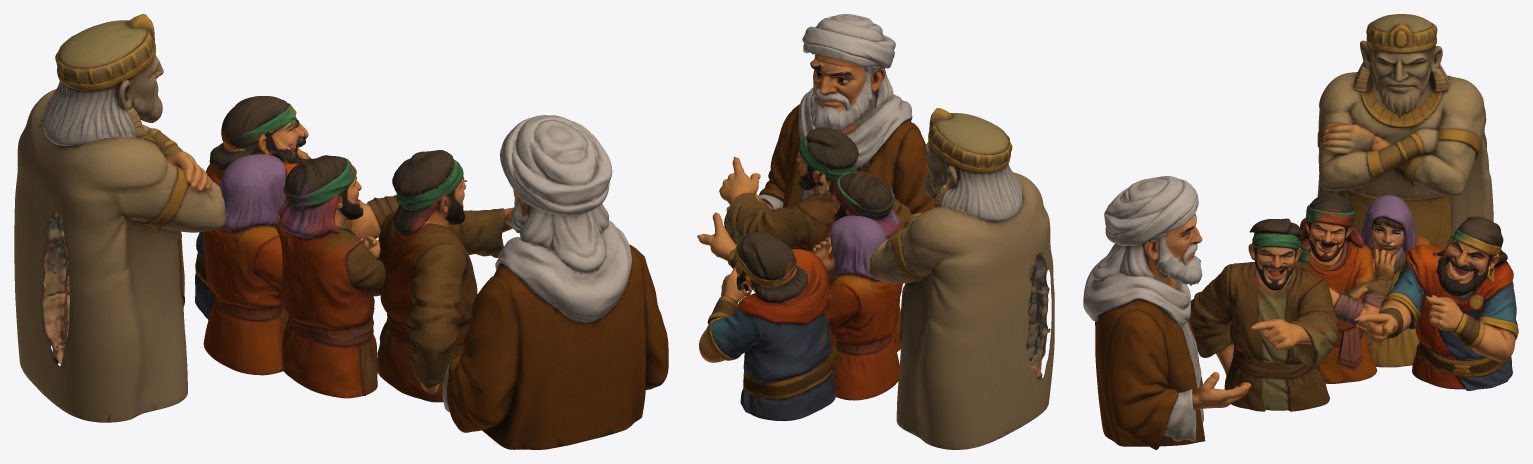
File: page-03.glb
3 renders of one model, left to right at view 1: azimuth 30°, elevation 25°; view 2: azimuth 150°, elevation 25°; view 3: azimuth 270°, elevation 25°, orthographic. The views are drawn at different scales.
Visible parts, largest first — view 1: tripo_node_a2b49d6f-3113-48df-b1f9-ea9b36f827a1; view 2: tripo_node_a2b49d6f-3113-48df-b1f9-ea9b36f827a1; view 3: tripo_node_a2b49d6f-3113-48df-b1f9-ea9b36f827a1.
Part boxes in pixels (<box>): tripo_node_a2b49d6f-3113-48df-b1f9-ea9b36f827a1: <box>14,14,668,449</box>; tripo_node_a2b49d6f-3113-48df-b1f9-ea9b36f827a1: <box>697,14,1054,449</box>; tripo_node_a2b49d6f-3113-48df-b1f9-ea9b36f827a1: <box>1083,14,1518,449</box>.
Size of the model in its own units: 1 by 0.7316 by 0.9927.
Materials: 1 (1 with a texture image).
